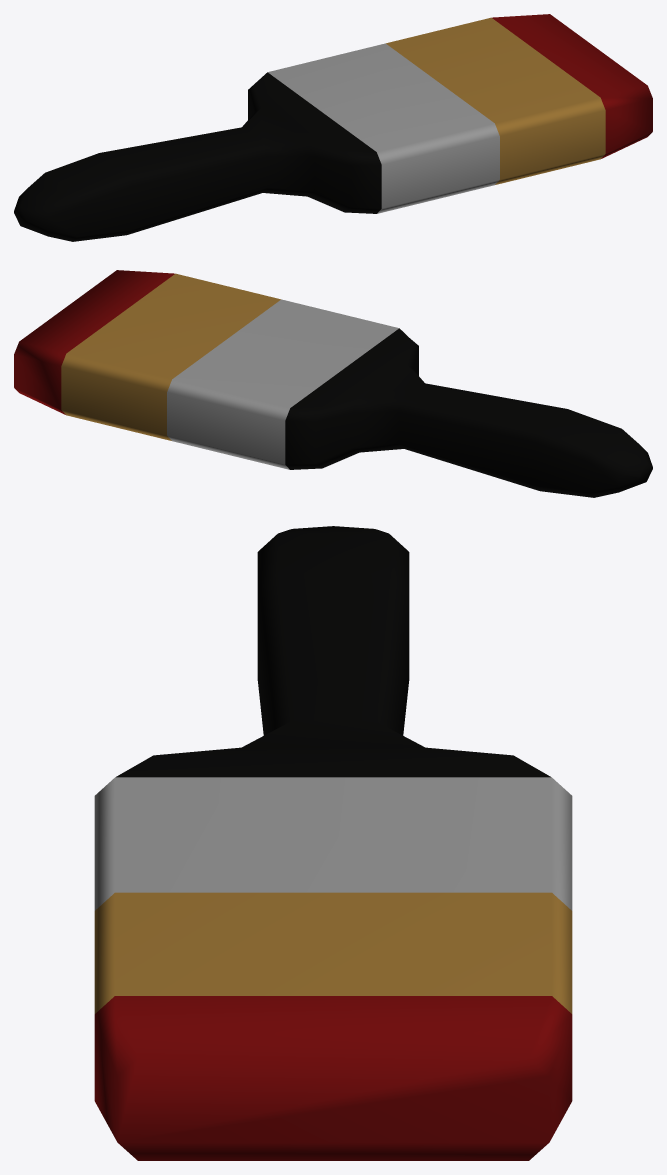
File: Paint_Brush.fbx
3 renders of one model, top to bottom at view 1: azimuth 30°, elevation 25°; view 2: azimuth 150°, elevation 25°; view 3: azimuth 270°, elevation 25°, orthographic. The views are drawn at different scales.
Visible parts, largest first — view 1: pCube37; view 2: pCube37; view 3: pCube37.
Boxes of the visible parts, x1,y1,x2,y2 form: pCube37: [14, 14, 652, 241]; pCube37: [14, 270, 652, 497]; pCube37: [94, 526, 572, 1160].
Size of the model in its own units: 0.1307 by 0.0134 by 0.0467.
